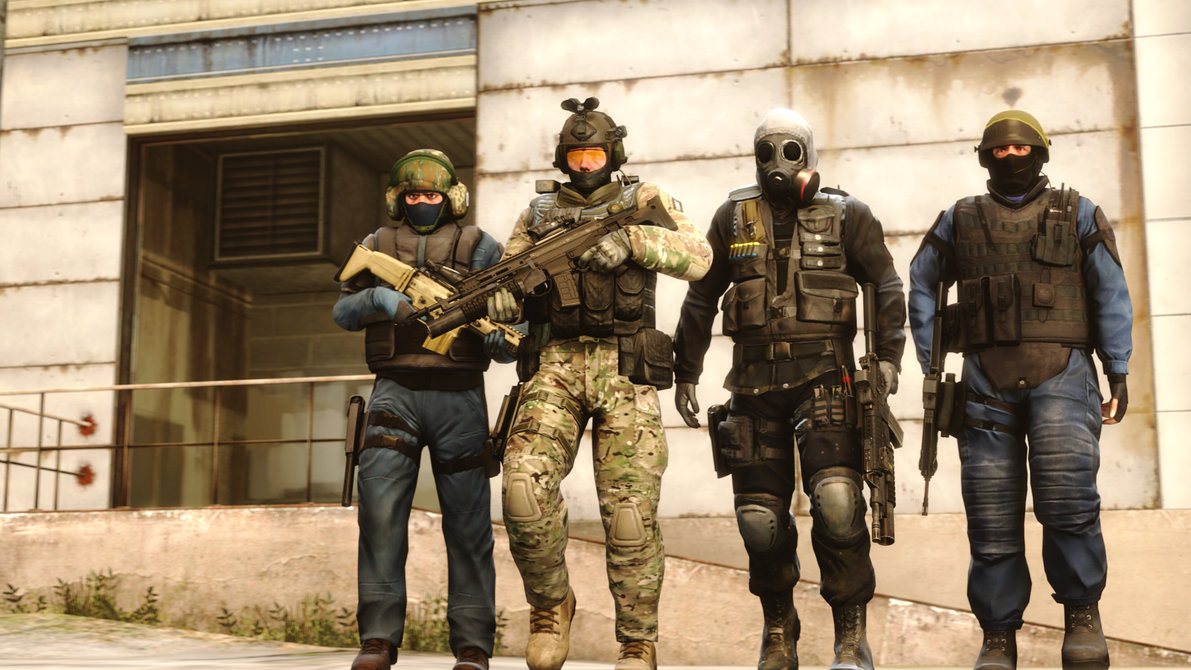c: (710, 99, 893, 669), (933, 108, 1116, 670), (499, 98, 672, 670), (336, 147, 505, 670)
ch: (738, 102, 827, 206), (974, 107, 1054, 200), (552, 99, 629, 191), (383, 147, 463, 233)
